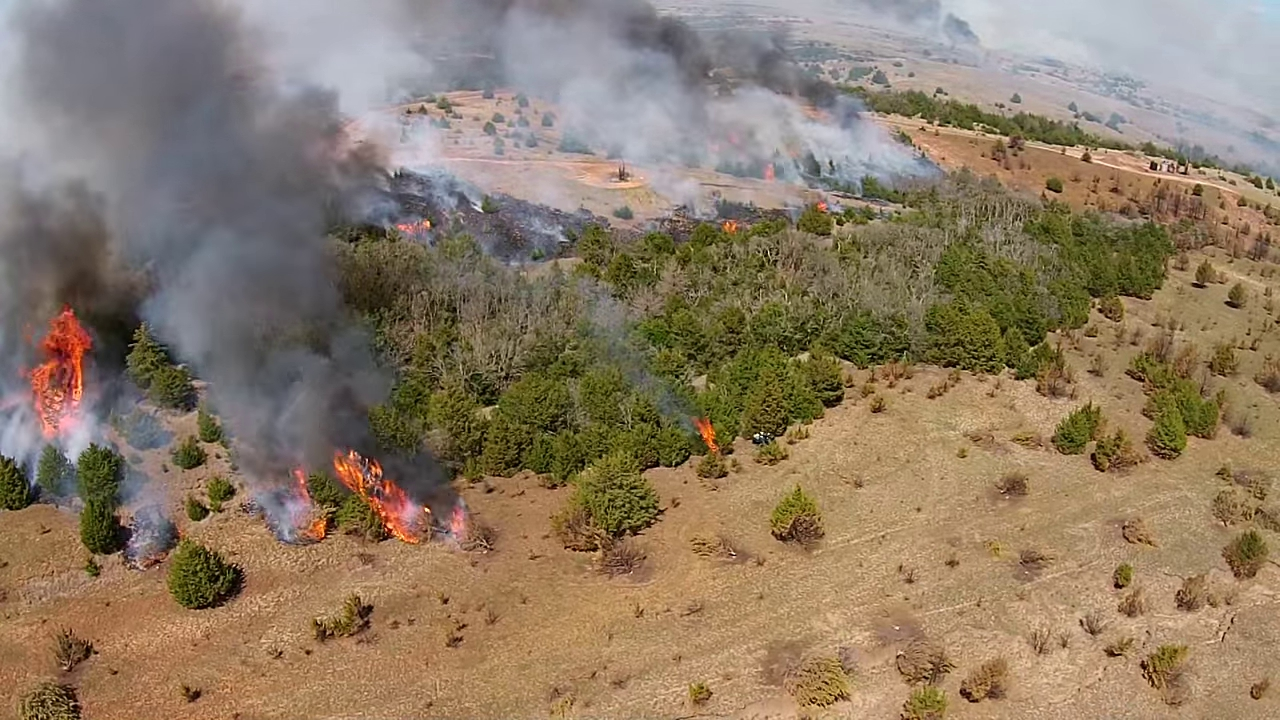forest_fire: (333, 450, 429, 542), (29, 307, 91, 437), (301, 504, 329, 540), (693, 418, 719, 454), (392, 218, 431, 236), (295, 470, 309, 502), (720, 220, 739, 234)
